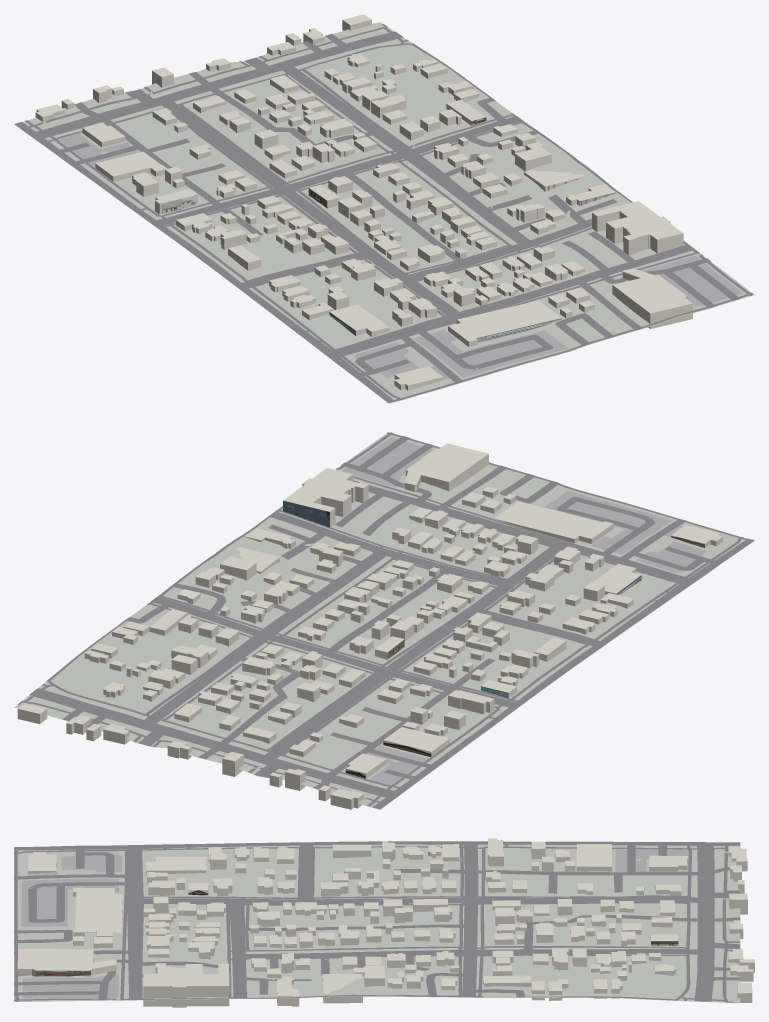
File: northwest.glb
The picture shows the model from 3 angles, top to bottom: view 1: azimuth 30°, elevation 25°; view 2: azimuth 150°, elevation 25°; view 3: azimuth 270°, elevation 25°; orthographic projection. The views are drawn at different scales.
Parts seen in each view (by area): view 1: ground, roads, bldg_561924674, bldg_536504496_Kitsap_Bank, parking_560591185, bldg_538421688_Peninsula_Community_Heal, parking_559876027, bldg_556901328_Communitas, bldg_538421687_Discount_Tire_Wheel, parking_560591188, parking_561626383, bldg_535322966_Bremerton_Housing_Author (+3 smaller); view 2: ground, roads, bldg_538421688_Peninsula_Community_Heal, bldg_536504496_Kitsap_Bank, bldg_561924674, parking_560591185, parking_559876027, bldg_556901328_Communitas, parking_560591188, parking_561626383, bldg_538421685_Ebenezer_AME, bldg_538421687_Discount_Tire_Wheel (+3 smaller); view 3: ground, roads, bldg_561924674, bldg_536504496_Kitsap_Bank, bldg_538421688_Peninsula_Community_Heal, parking_560591185, parking_559876027, bldg_556901328_Communitas, bldg_538421687_Discount_Tire_Wheel, bldg_1253467272, parking_561626383, parking_560591188 (+21 smaller).
Boxes of the visible parts, bbox=[...] form: ground: bbox=[14, 22, 754, 403]; roads: bbox=[14, 24, 753, 402]; bldg_561924674: bbox=[592, 201, 683, 255]; bldg_536504496_Kitsap_Bank: bbox=[612, 268, 692, 328]; parking_560591185: bbox=[413, 329, 567, 377]; bldg_538421688_Peninsula_Community_Heal: bbox=[448, 300, 561, 346]; parking_559876027: bbox=[642, 256, 742, 306]; bldg_556901328_Communitas: bbox=[95, 151, 160, 181]; bldg_538421687_Discount_Tire_Wheel: bbox=[330, 304, 389, 336]; parking_560591188: bbox=[355, 342, 418, 378]; parking_561626383: bbox=[58, 133, 139, 166]; bldg_535322966_Bremerton_Housing_Author: bbox=[394, 366, 443, 390]; ground: bbox=[14, 432, 754, 809]; roads: bbox=[17, 432, 754, 809]; bldg_538421688_Peninsula_Community_Heal: bbox=[494, 501, 613, 543]; bldg_536504496_Kitsap_Bank: bbox=[405, 443, 488, 491]; bldg_561924674: bbox=[283, 468, 368, 527]; parking_560591185: bbox=[544, 491, 672, 554]; parking_559876027: bbox=[341, 437, 433, 487]; bldg_556901328_Communitas: bbox=[384, 727, 449, 756]; parking_560591188: bbox=[636, 541, 707, 573]; parking_561626383: bbox=[367, 746, 427, 784]; bldg_538421685_Ebenezer_AME: bbox=[448, 690, 494, 714]; bldg_538421687_Discount_Tire_Wheel: bbox=[593, 564, 640, 594]; ground: bbox=[14, 844, 740, 1003]; roads: bbox=[14, 841, 740, 1002]; bldg_561924674: bbox=[143, 963, 229, 1007]; bldg_536504496_Kitsap_Bank: bbox=[17, 949, 116, 976]; bldg_538421688_Peninsula_Community_Heal: bbox=[73, 887, 122, 932]; parking_560591185: bbox=[21, 878, 119, 927]; parking_559876027: bbox=[22, 974, 118, 998]; bldg_556901328_Communitas: bbox=[576, 844, 611, 871]; bldg_538421687_Discount_Tire_Wheel: bbox=[145, 857, 206, 874]; bldg_1253467272: bbox=[322, 973, 362, 1003]; parking_561626383: bbox=[615, 849, 688, 871]; parking_560591188: bbox=[61, 853, 122, 872].
Bounding box in the file's own units: 241 × 23.49 × 435.
203 materials, 15 textured.
